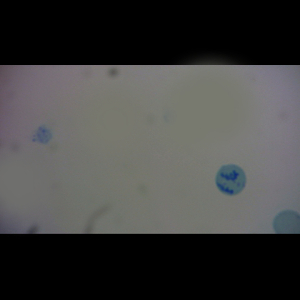aggregate reticulocyte: (215, 163, 247, 196)
